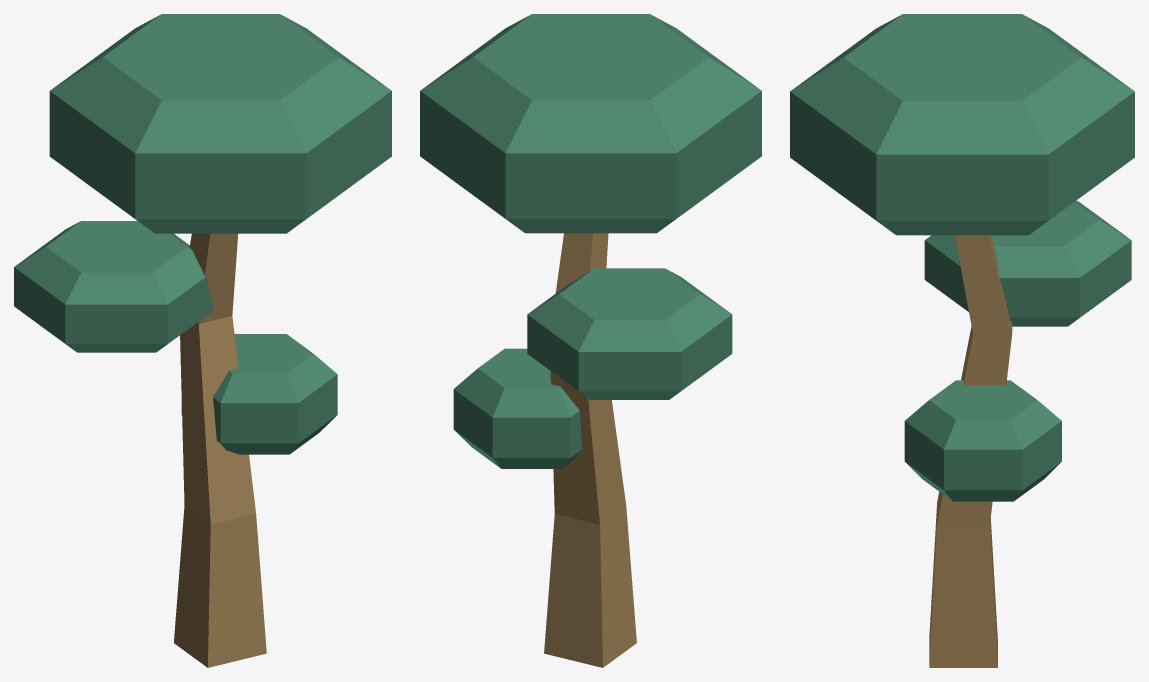
The model's file is naturePack_073.obj.
3 renders of one model, left to right at view 1: azimuth 30°, elevation 25°; view 2: azimuth 150°, elevation 25°; view 3: azimuth 270°, elevation 25°, orthographic.
Parts seen in each view (by area): view 1: Mesh1_Group1_Model.052; view 2: Mesh1_Group1_Model.052; view 3: Mesh1_Group1_Model.052.
Part boxes in pixels (left/top/right/bottom): Mesh1_Group1_Model.052: left=14, top=14, right=391, bottom=667; Mesh1_Group1_Model.052: left=420, top=14, right=761, bottom=667; Mesh1_Group1_Model.052: left=790, top=14, right=1134, bottom=667.
Bounding box in the file's own units: 2.45 × 5 × 2.62.
